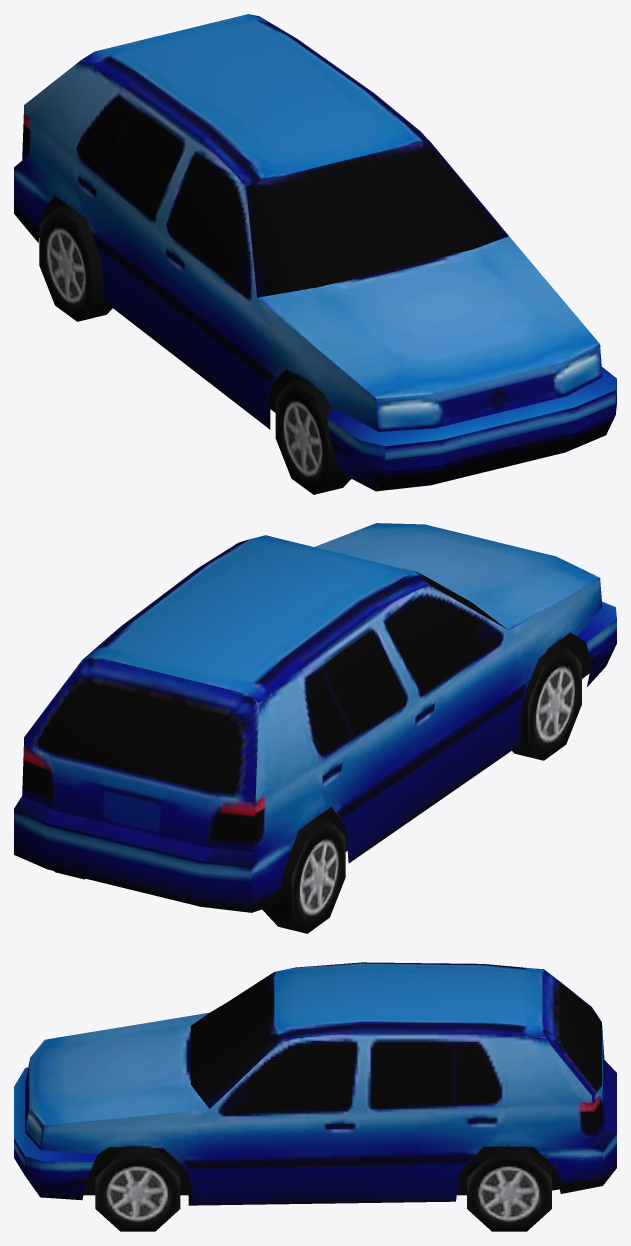
File: Car_VWGolf.fbx
3 renders of one model, top to bottom at view 1: azimuth 30°, elevation 25°; view 2: azimuth 150°, elevation 25°; view 3: azimuth 270°, elevation 25°, orthographic. The views are drawn at different scales.
Parts seen in each view (by area): view 1: Car_VWGolf; view 2: Car_VWGolf; view 3: Car_VWGolf.
Part boxes in pixels (x1,y1,x2,y2): Car_VWGolf: (14,14,616,494); Car_VWGolf: (14,523,616,933); Car_VWGolf: (14,962,616,1231).
Size of the model in its own units: 1.62 by 1.45 by 4.15.
